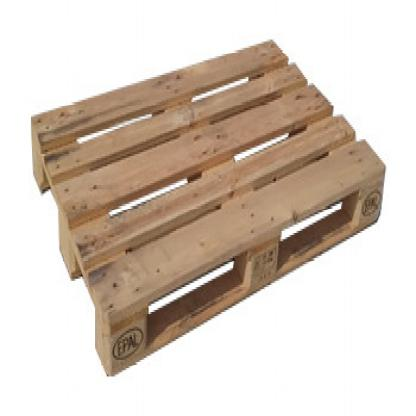BoxFace: (31, 35, 389, 382)
